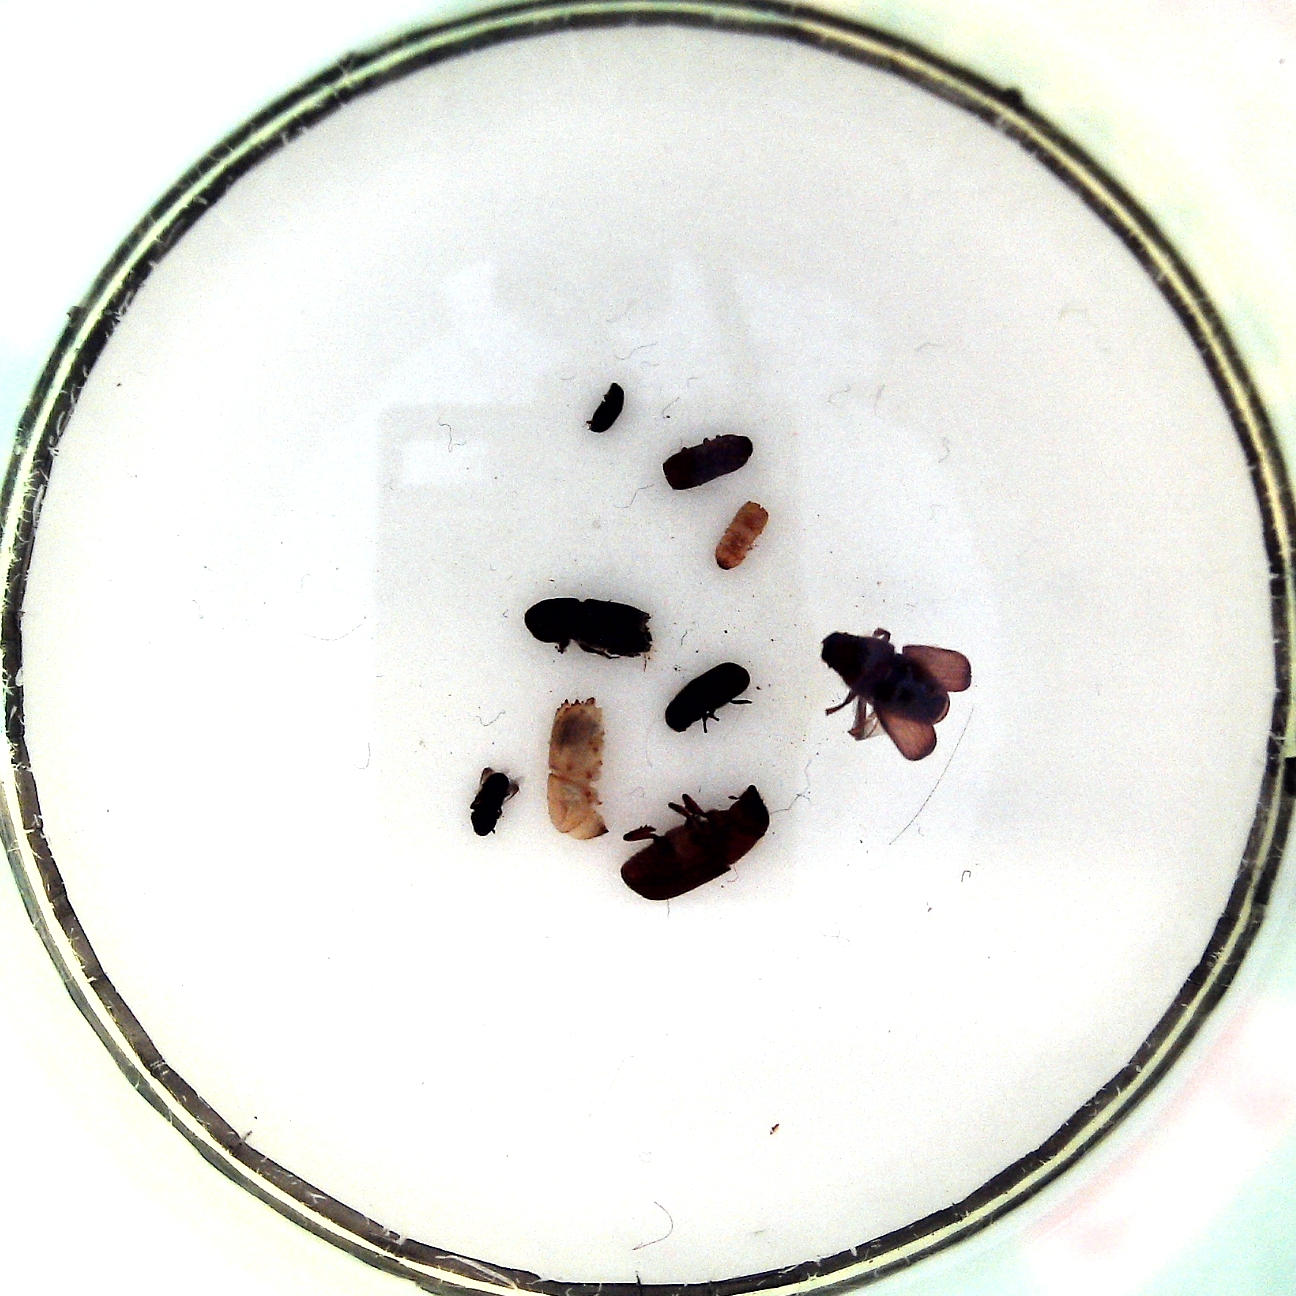Boerner: (540, 695, 616, 843)
Leconte: (811, 620, 978, 764), (614, 779, 770, 906), (521, 584, 662, 676)
Linnaeus: (660, 431, 758, 497)
acuminatus: (711, 497, 773, 577)
armandi: (657, 656, 760, 738)
coleoptera: (465, 761, 529, 841), (585, 374, 629, 438)
